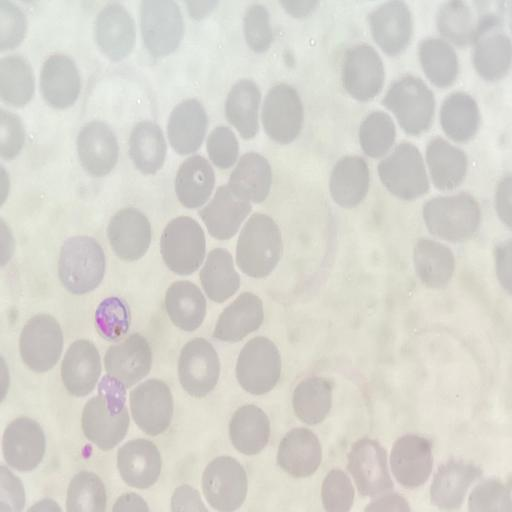Infected: (95, 297, 130, 339)
Uninfected: (233, 215, 283, 277), (376, 143, 428, 200), (57, 235, 107, 294), (382, 78, 434, 134), (200, 186, 252, 241), (423, 193, 479, 244), (233, 337, 282, 395), (17, 314, 63, 374), (160, 216, 204, 278), (140, 1, 186, 59), (260, 84, 305, 143), (103, 335, 152, 389), (164, 99, 210, 156), (345, 438, 391, 495), (212, 293, 264, 343), (106, 207, 154, 261), (176, 339, 222, 395), (127, 380, 173, 435), (226, 153, 273, 206), (200, 457, 247, 510), (424, 137, 470, 191), (2, 416, 47, 471), (173, 155, 218, 209), (81, 395, 128, 446), (367, 2, 413, 54), (389, 434, 433, 488), (40, 53, 83, 108), (59, 340, 102, 395), (341, 45, 385, 98), (94, 5, 136, 60), (429, 460, 478, 507), (75, 123, 118, 176), (416, 235, 456, 291), (328, 156, 371, 208), (164, 281, 209, 330), (116, 439, 161, 488), (198, 251, 240, 303), (227, 405, 272, 453), (224, 81, 263, 136), (471, 28, 512, 80), (290, 375, 334, 422), (276, 429, 320, 475), (418, 38, 460, 85), (438, 93, 479, 141), (357, 110, 398, 156), (0, 55, 36, 107), (127, 123, 165, 170), (436, 2, 477, 43), (66, 473, 107, 511), (205, 124, 240, 167), (241, 7, 274, 52), (320, 470, 356, 510)
